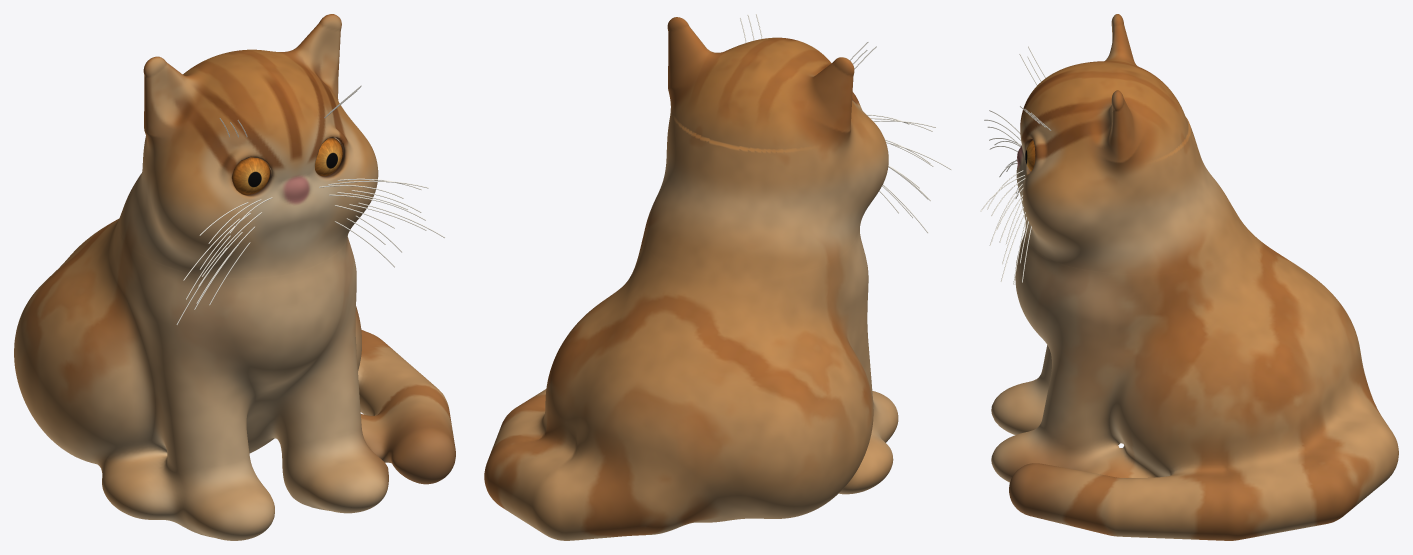
Rendered from artu-persiano.glb.
3 views of the same model, side by side, from view 1: azimuth 30°, elevation 25°; view 2: azimuth 150°, elevation 25°; view 3: azimuth 270°, elevation 25° (orthographic). The views are drawn at different scales.
Parts seen in each view (by area): view 1: corpo, testa, baffi, occhio destro, occhio sinistro; view 2: corpo, testa, baffi; view 3: corpo, testa, baffi.
Part boxes in pixels (box(x1,y1,x2,y2)): corpo: box(14, 218, 455, 540); testa: box(118, 14, 378, 278); baffi: box(176, 85, 445, 324); occhio destro: box(232, 157, 270, 194); occhio sinistro: box(315, 137, 342, 176); corpo: box(484, 229, 898, 540); testa: box(644, 17, 888, 279); baffi: box(740, 14, 951, 233); corpo: box(991, 224, 1398, 540); testa: box(1016, 14, 1245, 274); baffi: box(980, 46, 1051, 284).
Size of the model in its own units: 0.236 by 0.2823 by 0.2637.
Materials: 3 (1 with a texture image).
